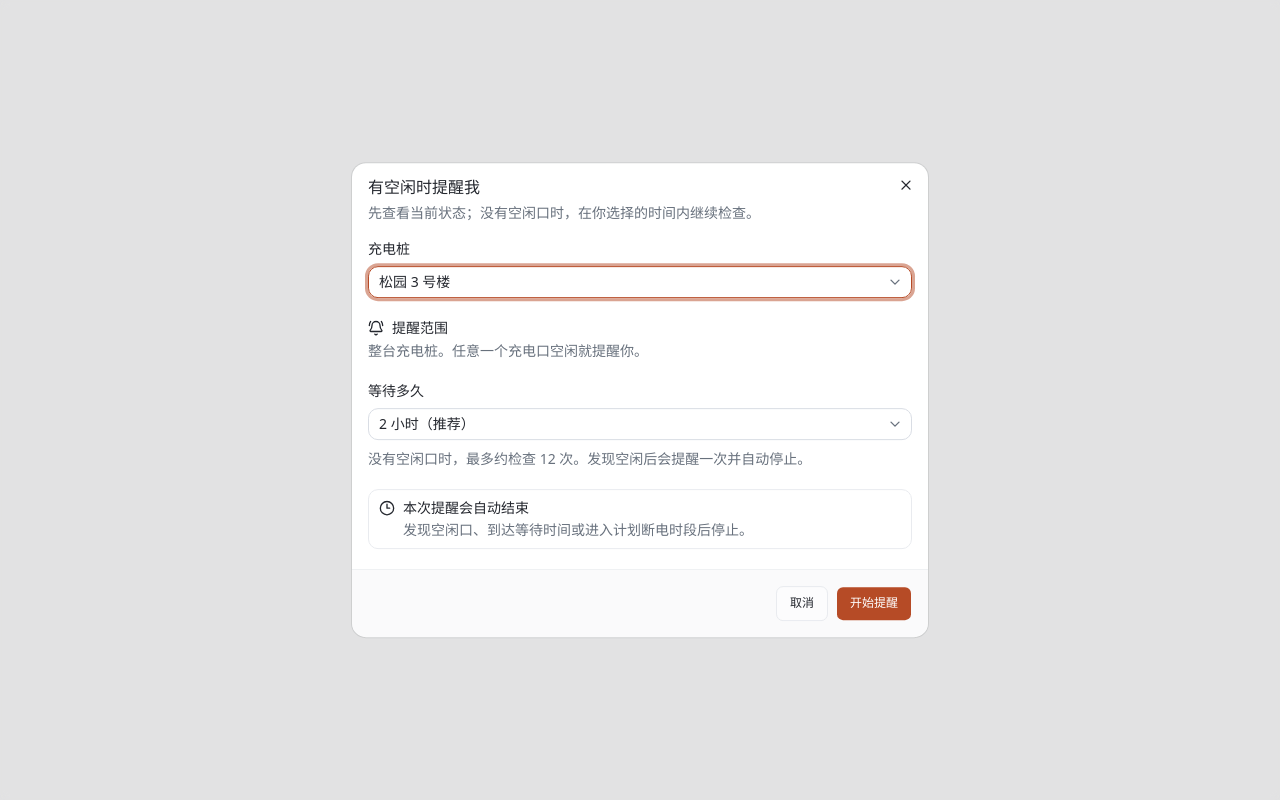
Test: WatchRuleDialog › shows idle ports immediately without leaving a background task
Click the button "开始提醒": (874, 603) [836,586,912,621]
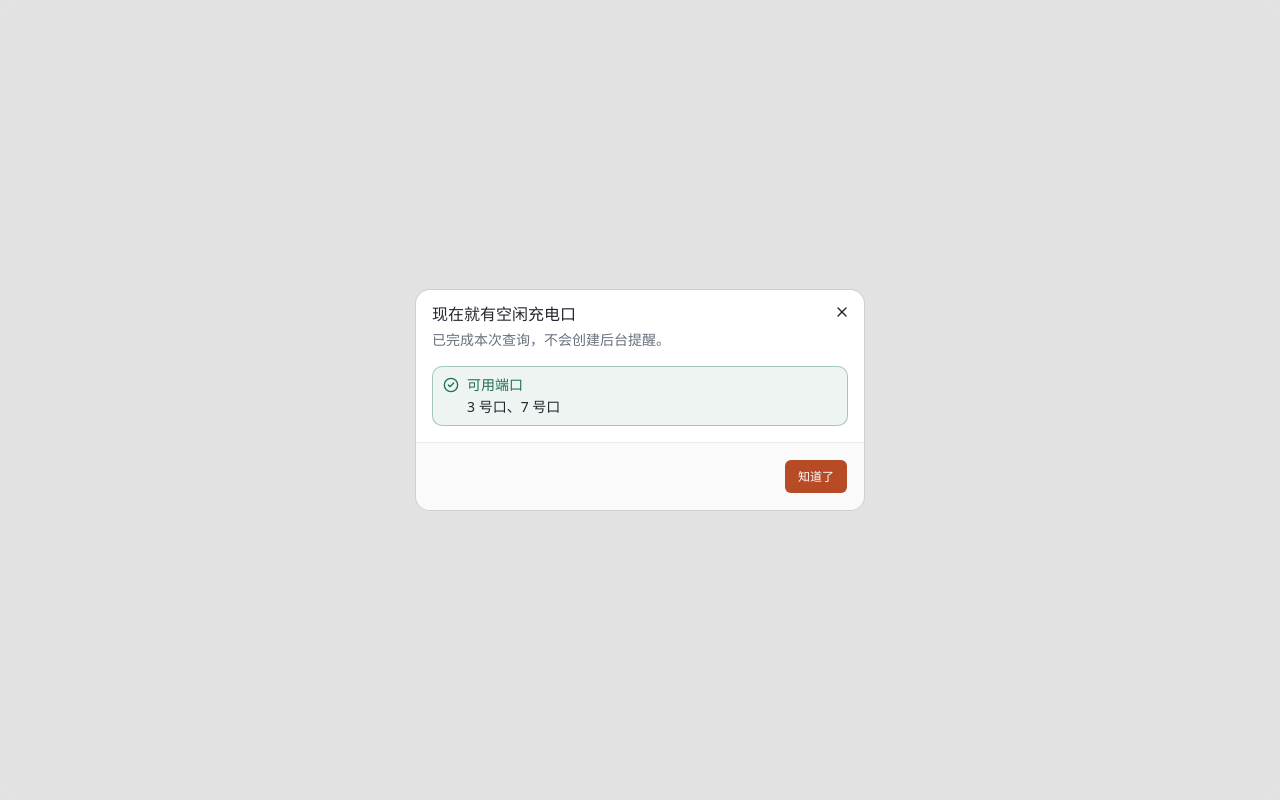
Expected: the text "3 号口、7 号口" is shown, [467,397,560,416]
Expected: the text "已完成本次查询，不会创建后台提醒。" is shown, [432,330,670,349]
